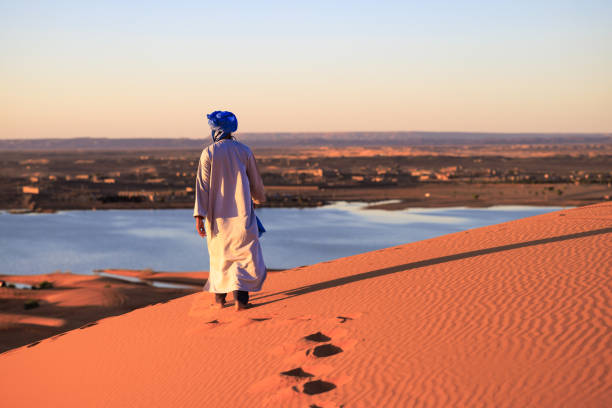human_foot_print: (249, 314, 359, 406)
